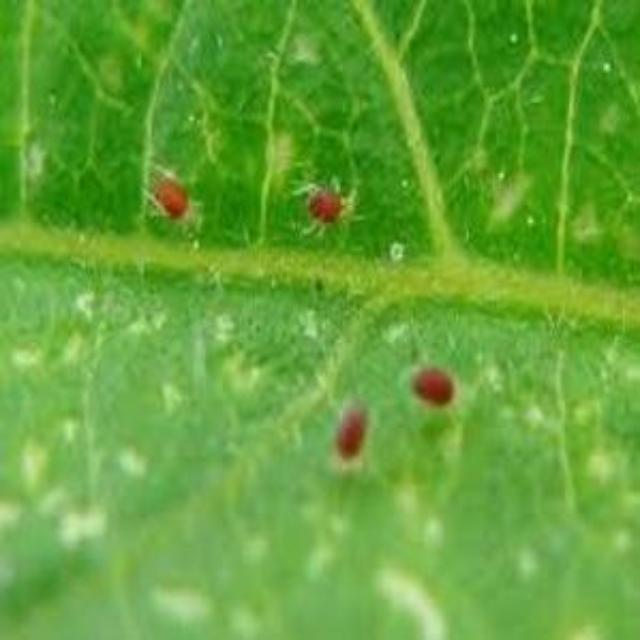spider mite: (132, 131, 234, 269), (257, 164, 373, 280), (302, 378, 391, 502), (386, 350, 474, 436)
